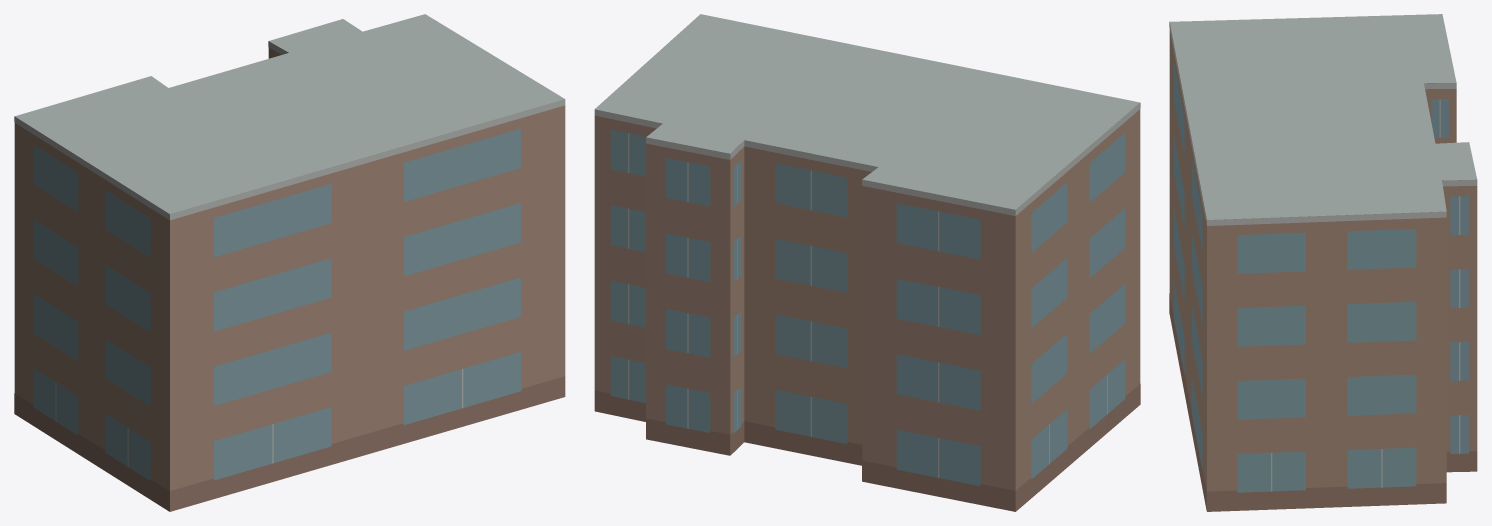
Rendered from survey-upis-32757649.glb.
3 renders of one model, left to right at view 1: azimuth 30°, elevation 25°; view 2: azimuth 150°, elevation 25°; view 3: azimuth 270°, elevation 25°, orthographic. The views are drawn at different scales.
Parts seen in each view (by area): view 1: survey-upis-32757649.tmp; view 2: survey-upis-32757649.tmp; view 3: survey-upis-32757649.tmp.
Part boxes in pixels (<box>): survey-upis-32757649.tmp: <box>14,14,565,511</box>; survey-upis-32757649.tmp: <box>594,14,1140,511</box>; survey-upis-32757649.tmp: <box>1169,14,1477,511</box>.
Size of the model in its own units: 17.88 by 11.8 by 11.29.
